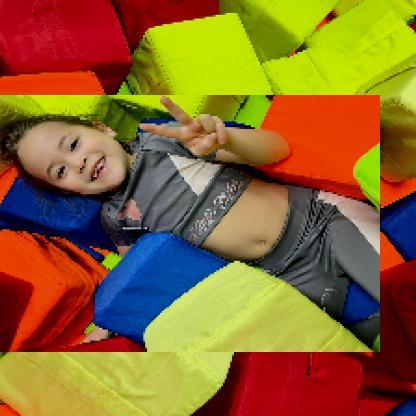child: (1, 97, 382, 355)
